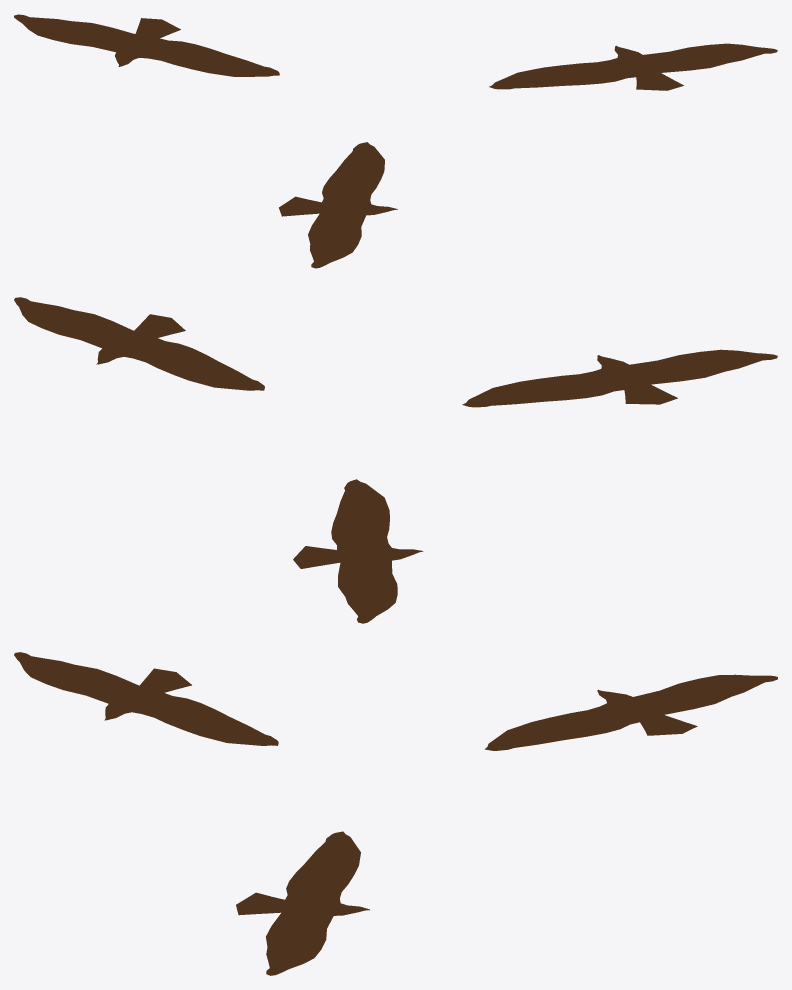
Rendered from birds.fbx.
3 renders of one model, top to bottom at view 1: azimuth 30°, elevation 25°; view 2: azimuth 150°, elevation 25°; view 3: azimuth 270°, elevation 25°, orthographic. The views are drawn at different scales.
Parts seen in each view (by area): view 1: Plane; view 2: Plane; view 3: Plane.
Boxes of the visible parts, left/top/right/bottom form: Plane: left=14, top=14, right=777, bottom=268; Plane: left=14, top=297, right=777, bottom=623; Plane: left=14, top=652, right=777, bottom=975.
Size of the model in its own units: 18.51 by 0.1578 by 18.8.
